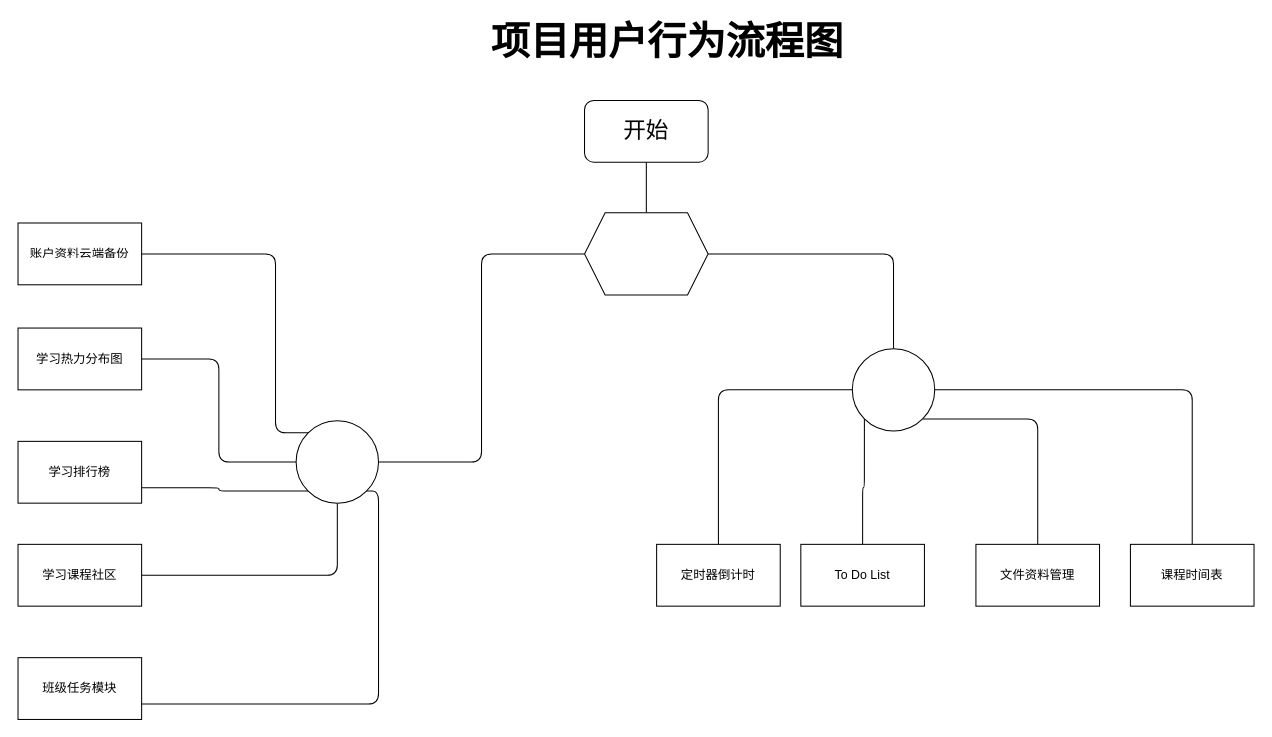
Some shapes in this 1272 by 737 pixel diagram are drawn without their labels. The shapes that lost their labels are listed below. From the top down, each one's centre as x and y in pixels, then its label:
At (645,253): "登录/未登录".
At (893,389): "基础功能".
At (337,461): "高级功能".
